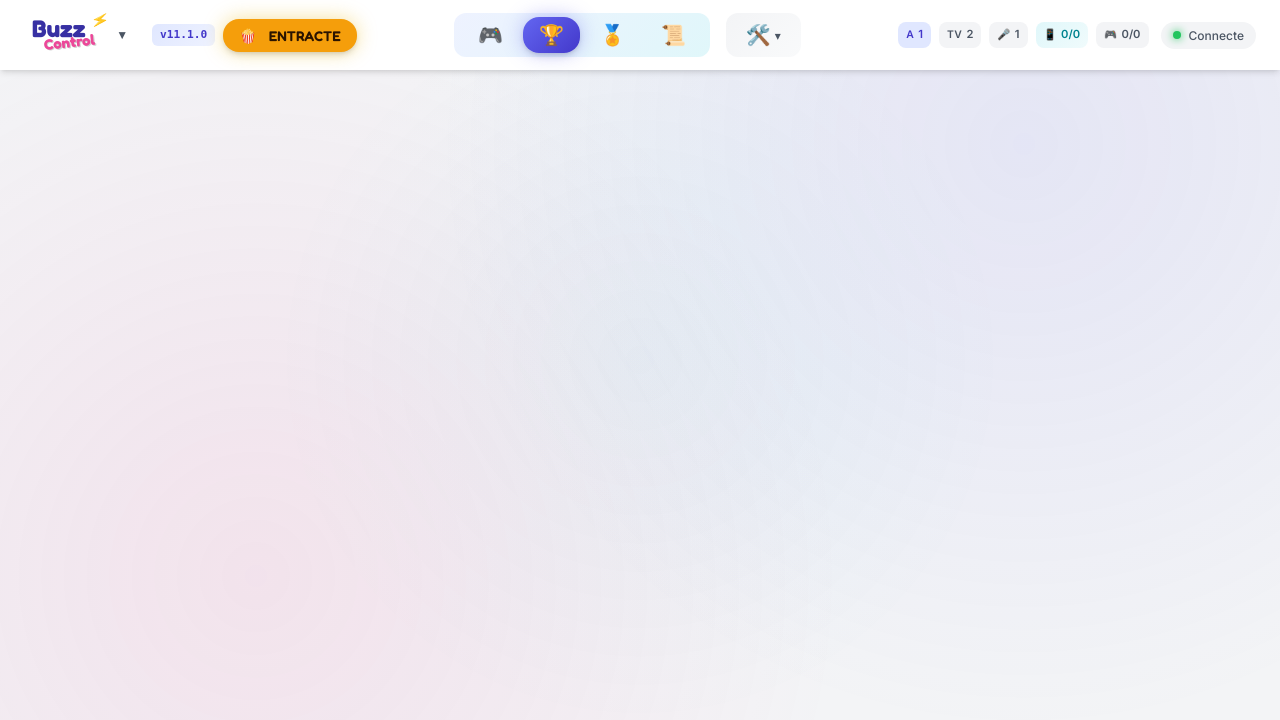
#238 — menu unique « Préparation » (< 1685 px) › cliquer une entrée de navigation referme le menu
Click the button named "Préparation" at [763, 35], box [734,17,793,53]
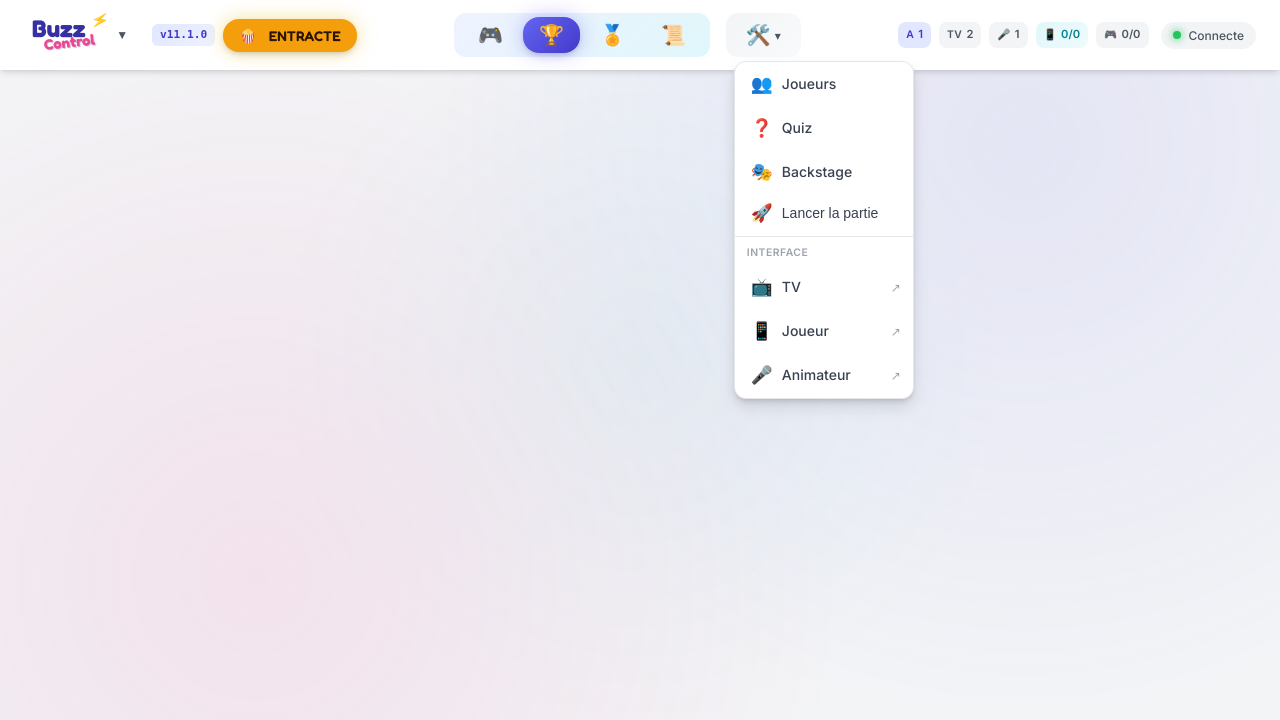
Click the link "❓ Quiz" at [782, 128], box [751,117,812,138]
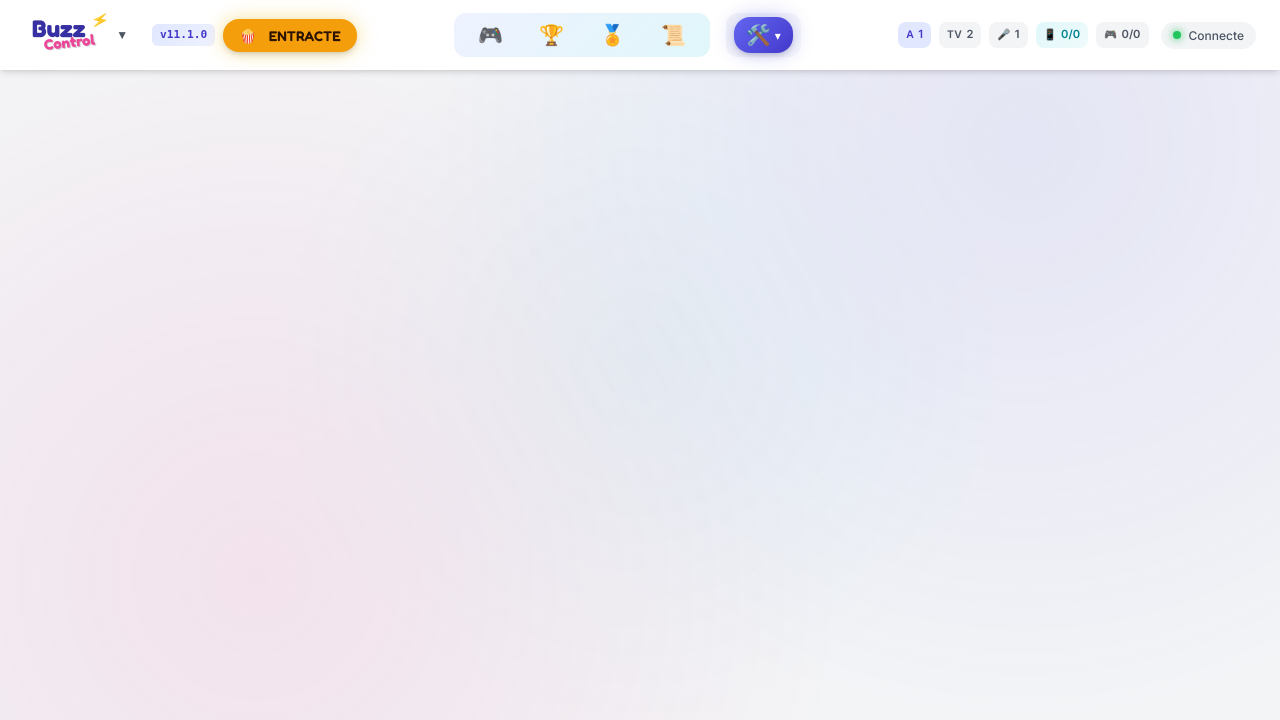
Check: the button named "Préparation" is collapsed, box [734,17,793,53]
